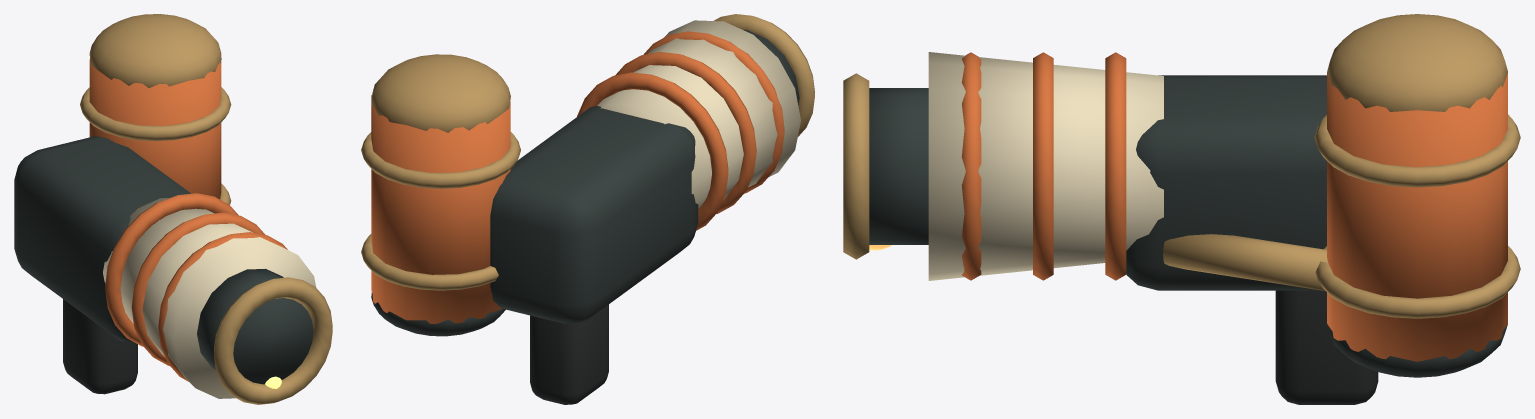
Rendered from flamethrower.glb.
3 views of the same model, side by side, from view 1: azimuth 30°, elevation 25°; view 2: azimuth 150°, elevation 25°; view 3: azimuth 270°, elevation 25° (orthographic). The views are drawn at different scales.
Visible parts, largest first — view 1: weapon_mechanism, weapon_enamel orange, weapon_brass, weapon_ceramic, weapon_rubber; view 2: weapon_mechanism, weapon_enamel orange, weapon_brass, weapon_ceramic, weapon_rubber; view 3: weapon_enamel orange, weapon_mechanism, weapon_ceramic, weapon_brass, weapon_rubber.
Part boxes in pixels (left/top/right/bottom): weapon_mechanism: left=14, top=136, right=313, bottom=384; weapon_enamel orange: left=89, top=52, right=287, bottom=381; weapon_brass: left=80, top=14, right=332, bottom=404; weapon_ceramic: left=103, top=198, right=316, bottom=398; weapon_rubber: left=63, top=299, right=137, bottom=394; weapon_mechanism: left=371, top=30, right=799, bottom=336; weapon_enamel orange: left=371, top=31, right=784, bottom=323; weapon_brass: left=361, top=14, right=814, bottom=290; weapon_ceramic: left=597, top=20, right=800, bottom=208; weapon_rubber: left=530, top=304, right=608, bottom=404; weapon_enamel orange: left=961, top=52, right=1507, bottom=361; weapon_mechanism: left=869, top=75, right=1507, bottom=377; weapon_ceramic: left=928, top=52, right=1163, bottom=280; weapon_brass: left=843, top=14, right=1520, bottom=318; weapon_rubber: left=1275, top=290, right=1378, bottom=404.
Size of the model in its own units: 0.591 by 0.78 by 1.12.
